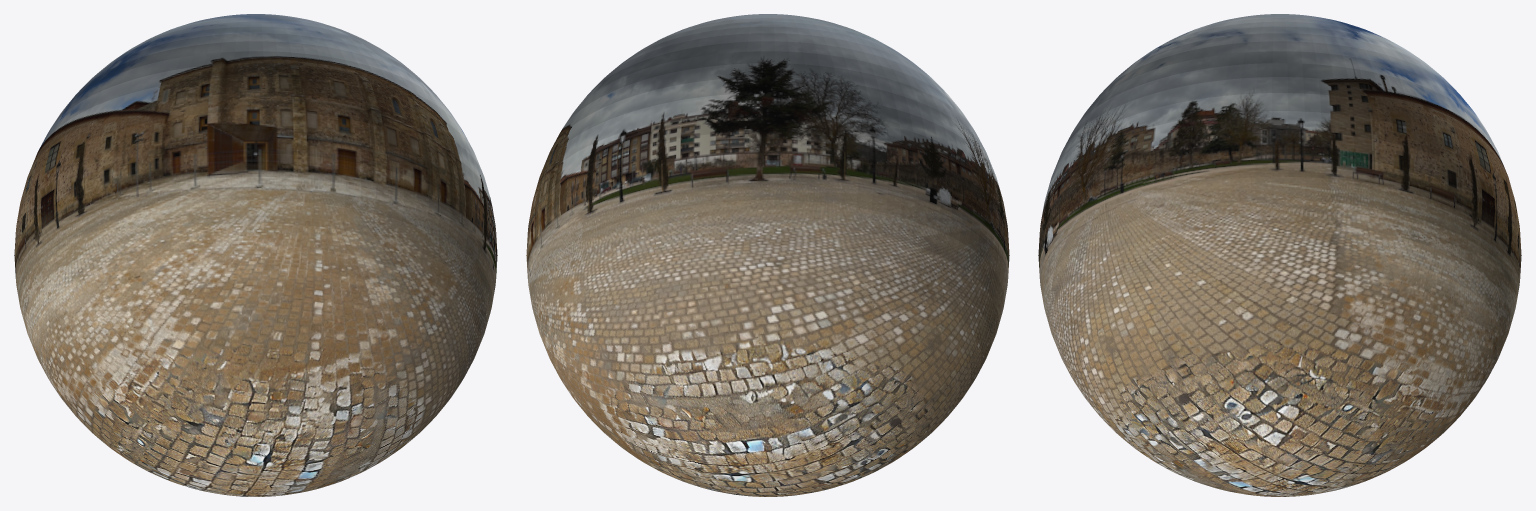
Rendered from building_ABCD_360.glb.
3 views of the same model, side by side, from view 1: azimuth 30°, elevation 25°; view 2: azimuth 150°, elevation 25°; view 3: azimuth 270°, elevation 25° (orthographic).
Size of the model in its own units: 2 by 2 by 2.
1 material, 1 textured.
